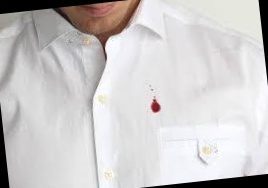blood: (149, 101, 161, 113)
